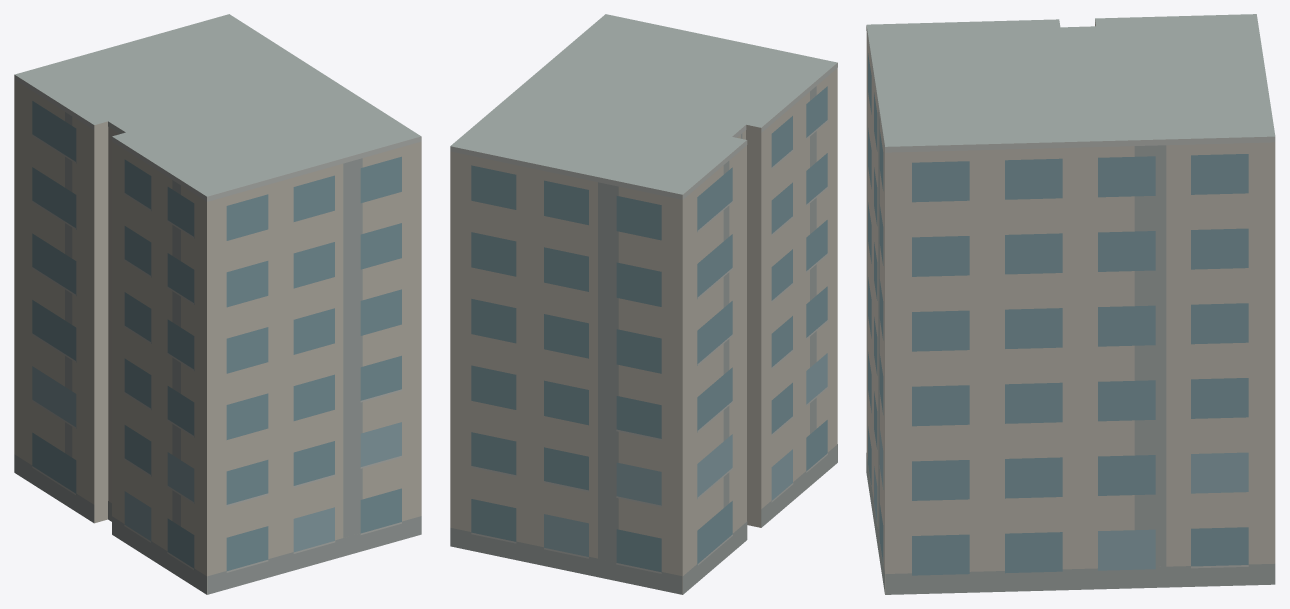
The model's file is survey-upis-32745532.glb.
The picture shows the model from 3 angles, left to right: view 1: azimuth 30°, elevation 25°; view 2: azimuth 150°, elevation 25°; view 3: azimuth 270°, elevation 25°; orthographic projection. The views are drawn at different scales.
Parts seen in each view (by area): view 1: survey-upis-32745532.tmp; view 2: survey-upis-32745532.tmp; view 3: survey-upis-32745532.tmp.
Part boxes in pixels (<box>): survey-upis-32745532.tmp: <box>14,14,421,594</box>; survey-upis-32745532.tmp: <box>450,14,837,594</box>; survey-upis-32745532.tmp: <box>866,14,1275,594</box>.
Bounding box in the file's own units: 11.96 × 18.8 × 15.56.
